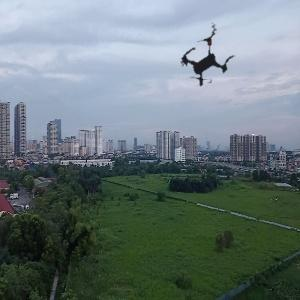drone: (153, 9, 264, 120)
